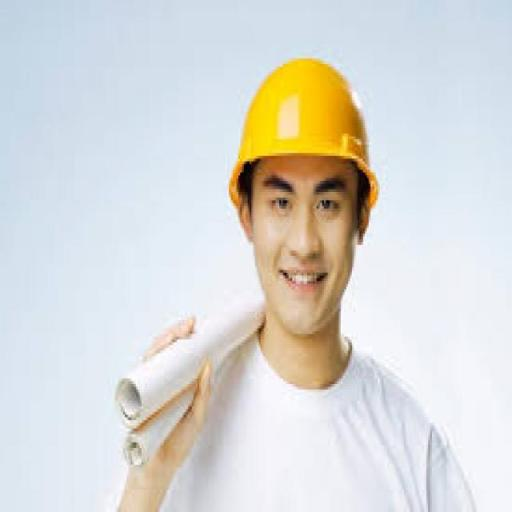helmet: (226, 53, 382, 201)
